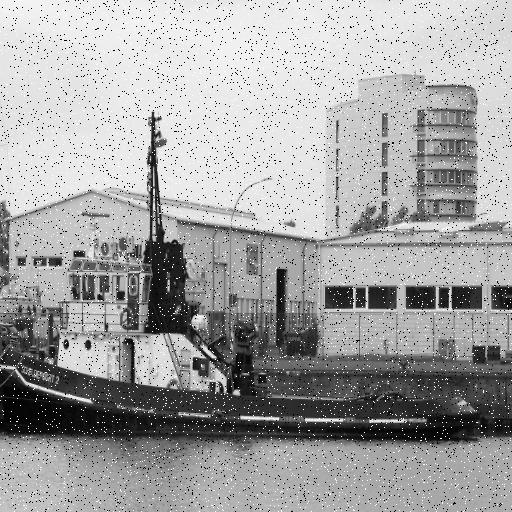tugboat: (1, 208, 484, 449)
